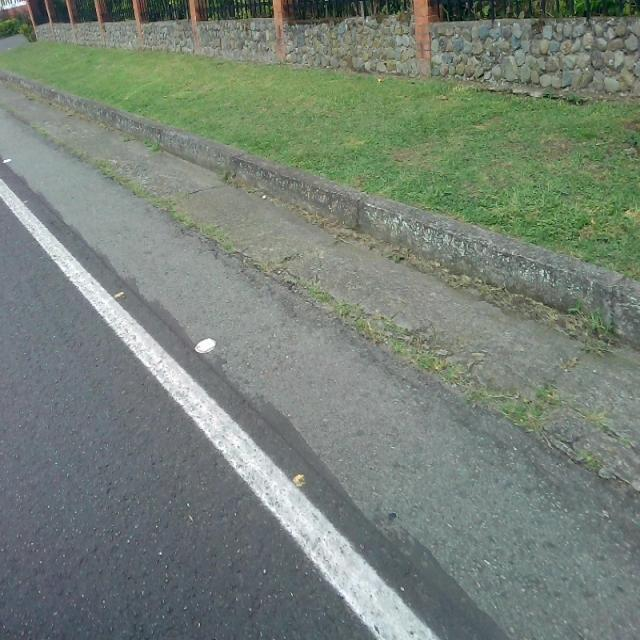DITCH: (1, 70, 639, 638)
